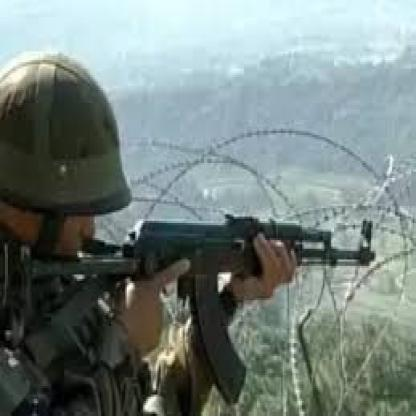Gun: (10, 191, 376, 412)
